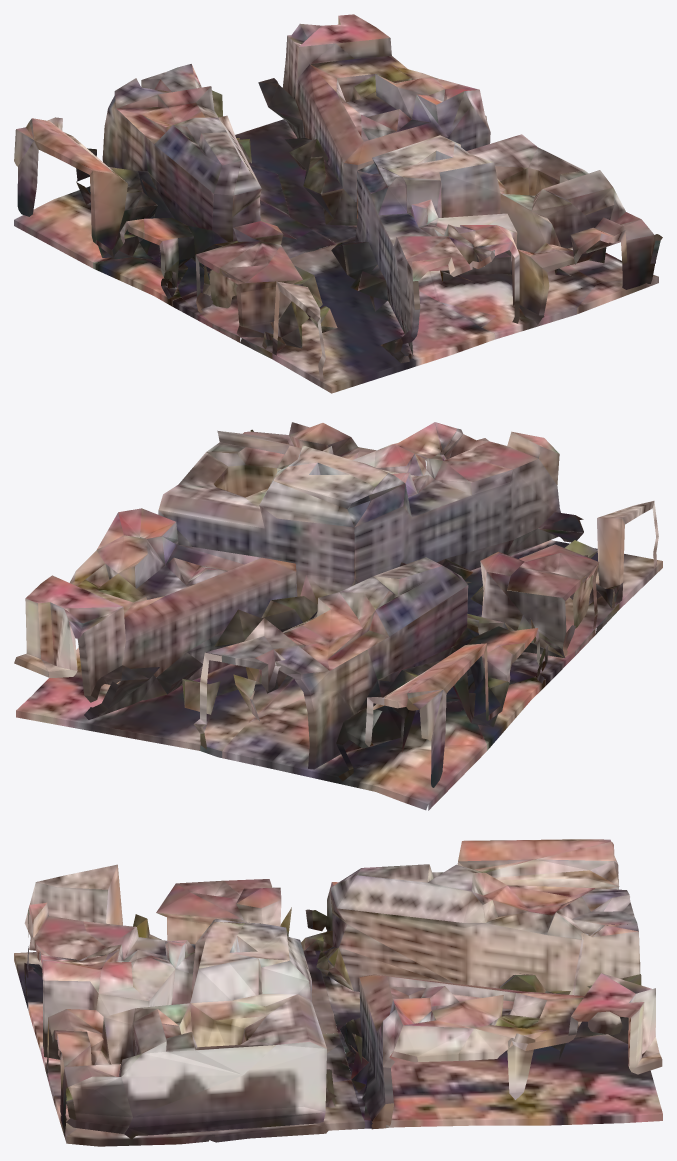
3 views of the same model, one above another, from view 1: azimuth 30°, elevation 25°; view 2: azimuth 150°, elevation 25°; view 3: azimuth 270°, elevation 25° (orthographic). The views are drawn at different scales.
Parts seen in each view (by area): view 1: Mesh_0; view 2: Mesh_0; view 3: Mesh_0.
Part boxes in pixels (<box>): Mesh_0: <box>14,14,662,393</box>; Mesh_0: <box>14,422,662,810</box>; Mesh_0: <box>14,839,662,1146</box>.
Size of the model in its own units: 134 by 40.49 by 165.
1 material, 1 textured.
